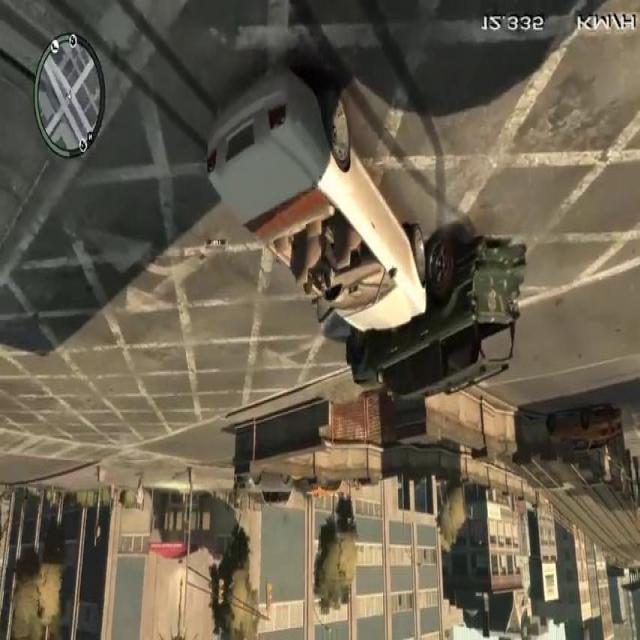moderate: (194, 49, 528, 415)
